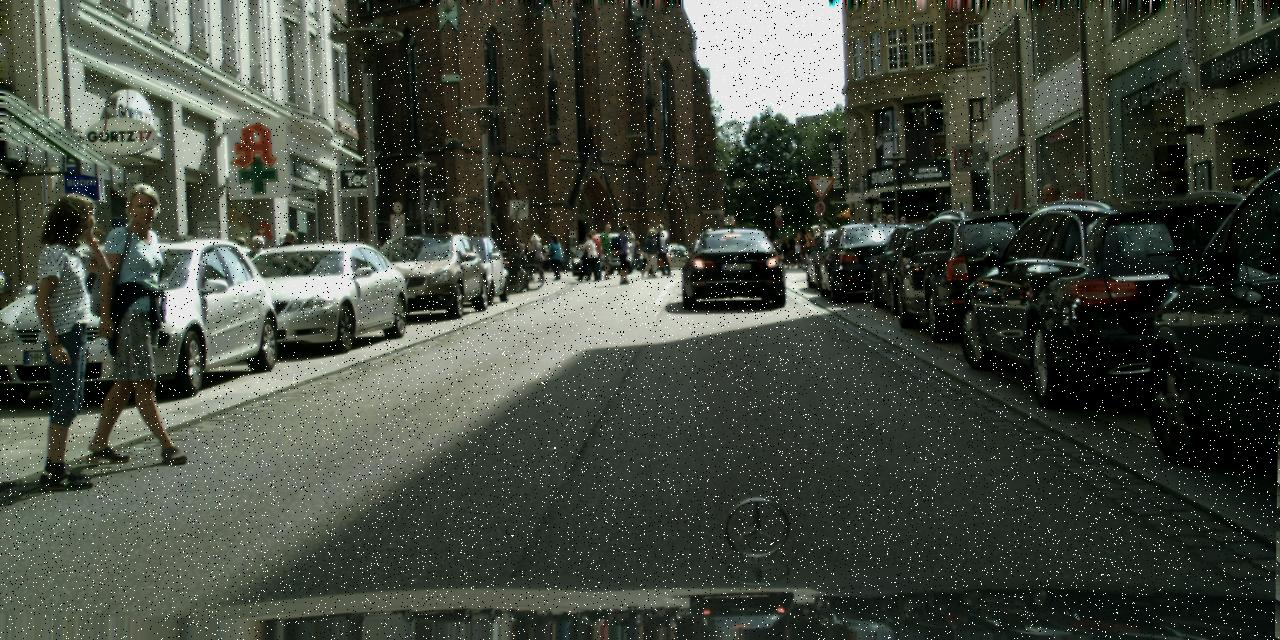ped: (4, 191, 126, 491), (86, 182, 201, 462), (1209, 176, 1279, 373), (1021, 183, 1080, 329), (238, 234, 276, 330), (271, 230, 301, 306), (224, 237, 254, 310), (612, 222, 637, 284), (596, 222, 619, 278), (650, 224, 671, 276), (583, 228, 603, 280), (921, 211, 941, 261), (578, 232, 598, 280), (651, 228, 670, 274), (641, 232, 660, 278), (526, 233, 545, 279), (881, 214, 900, 258), (546, 234, 564, 280), (644, 225, 662, 269), (814, 223, 832, 266), (806, 225, 824, 268), (894, 216, 911, 260), (877, 213, 894, 256), (796, 226, 813, 268), (369, 238, 386, 280), (441, 232, 458, 272), (640, 231, 656, 273), (356, 238, 372, 279), (872, 216, 888, 256), (324, 236, 340, 276), (338, 238, 354, 276), (362, 238, 377, 276), (472, 232, 487, 268), (466, 232, 480, 268), (785, 234, 798, 268), (791, 238, 804, 268), (630, 240, 642, 272), (552, 241, 564, 271), (779, 237, 790, 267), (540, 243, 551, 270), (524, 242, 534, 270), (769, 240, 779, 266), (518, 243, 528, 268)
